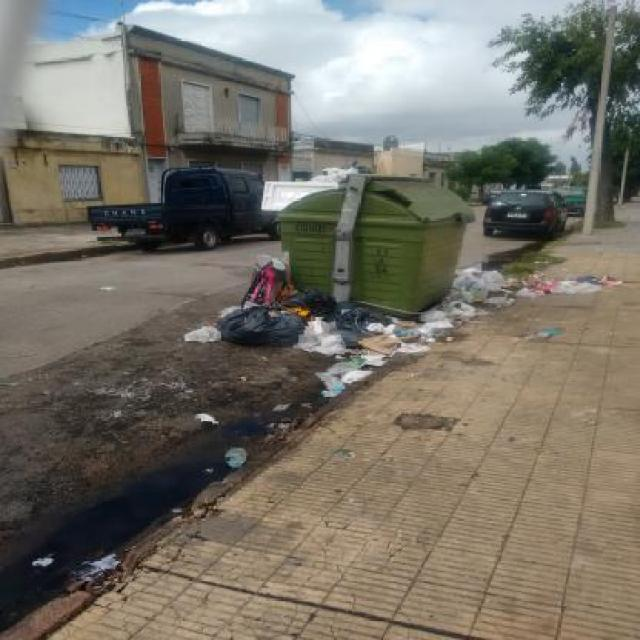garbage: (0, 386, 342, 594), (214, 263, 640, 348), (257, 308, 414, 415)
